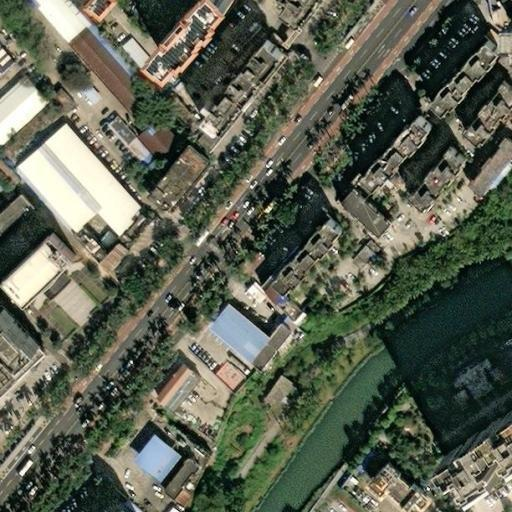building: (35, 124, 144, 239), (190, 27, 290, 143), (59, 26, 148, 121), (219, 54, 300, 150), (13, 149, 96, 236), (358, 113, 431, 190), (424, 38, 497, 115), (272, 215, 341, 294), (18, 244, 91, 317), (150, 148, 215, 217), (207, 307, 275, 370), (406, 148, 470, 212), (361, 460, 422, 509), (99, 117, 150, 173), (0, 306, 35, 384), (340, 194, 394, 244), (472, 139, 512, 206), (152, 364, 201, 416), (134, 435, 184, 484), (126, 121, 171, 168), (255, 328, 297, 378), (110, 37, 154, 84), (164, 459, 206, 503), (209, 352, 248, 391), (98, 245, 129, 276), (349, 243, 379, 275), (255, 376, 284, 409), (266, 286, 292, 312), (350, 451, 373, 478), (240, 284, 264, 307), (72, 83, 93, 106), (281, 305, 303, 326), (177, 490, 197, 510), (93, 232, 108, 248)
